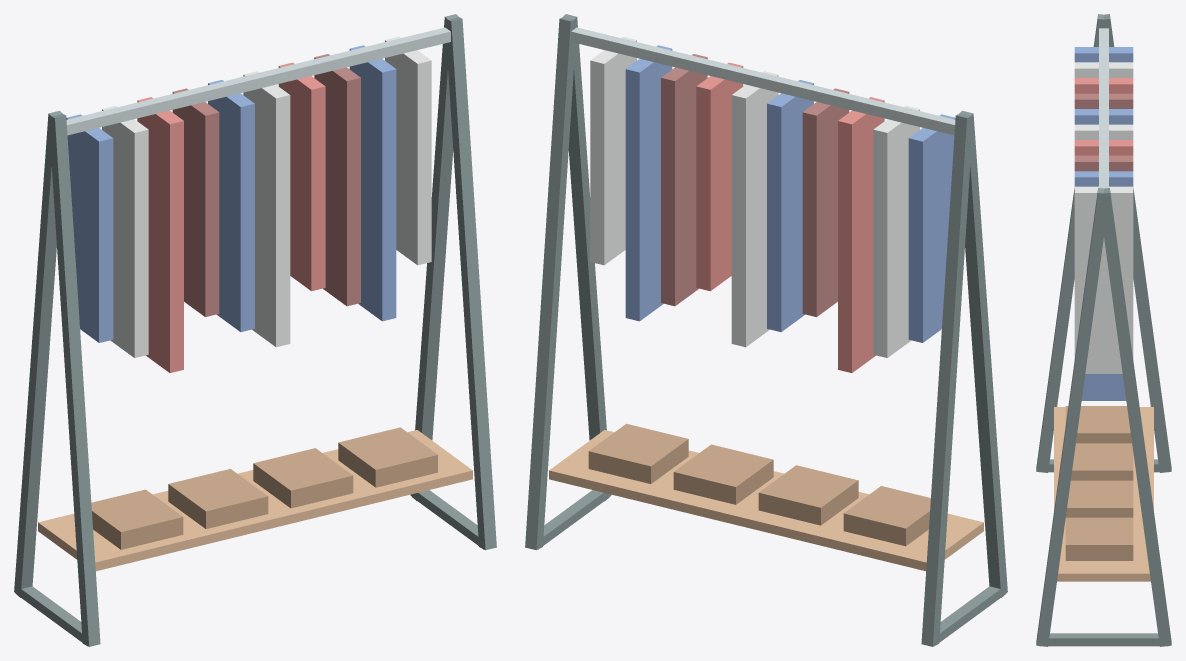
The model's file is clothesRail.glb.
3 renders of one model, left to right at view 1: azimuth 30°, elevation 25°; view 2: azimuth 150°, elevation 25°; view 3: azimuth 270°, elevation 25°, orthographic. The views are drawn at different scales.
Parts seen in each view (by area): view 1: clothesRail; view 2: clothesRail; view 3: clothesRail.
Part boxes in pixels (x1,y1,x2,y2): clothesRail: (14, 14, 496, 646); clothesRail: (525, 14, 1007, 646); clothesRail: (1036, 14, 1171, 646).
Size of the model in its own units: 0.72 by 0.8525 by 0.2298.
